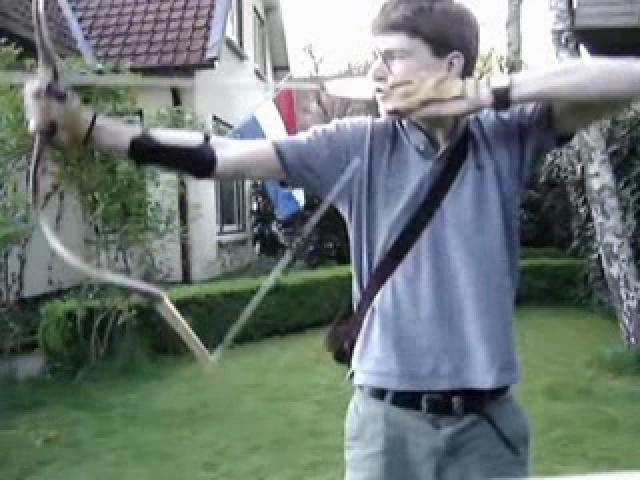P: (29, 6, 528, 473)
